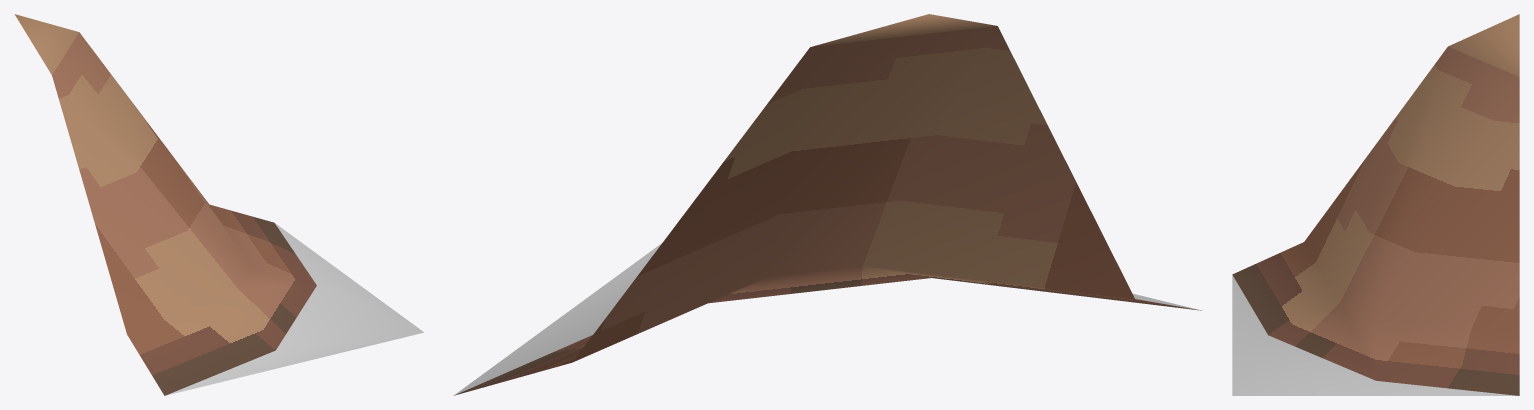
File: cliffcorn_up-left.fbx
The picture shows the model from 3 angles, left to right: view 1: azimuth 30°, elevation 25°; view 2: azimuth 150°, elevation 25°; view 3: azimuth 270°, elevation 25°; orthographic projection. The views are drawn at different scales.
Visible parts, largest first — view 1: map.001; view 2: map.001; view 3: map.001.
Boxes of the visible parts, x1=… form: map.001: x1=14, y1=14, x2=423, y2=395; map.001: x1=453, y1=14, x2=1201, y2=395; map.001: x1=1232, y1=14, x2=1519, y2=395.
Bounding box in the file's own units: 1 × 1 × 1.
